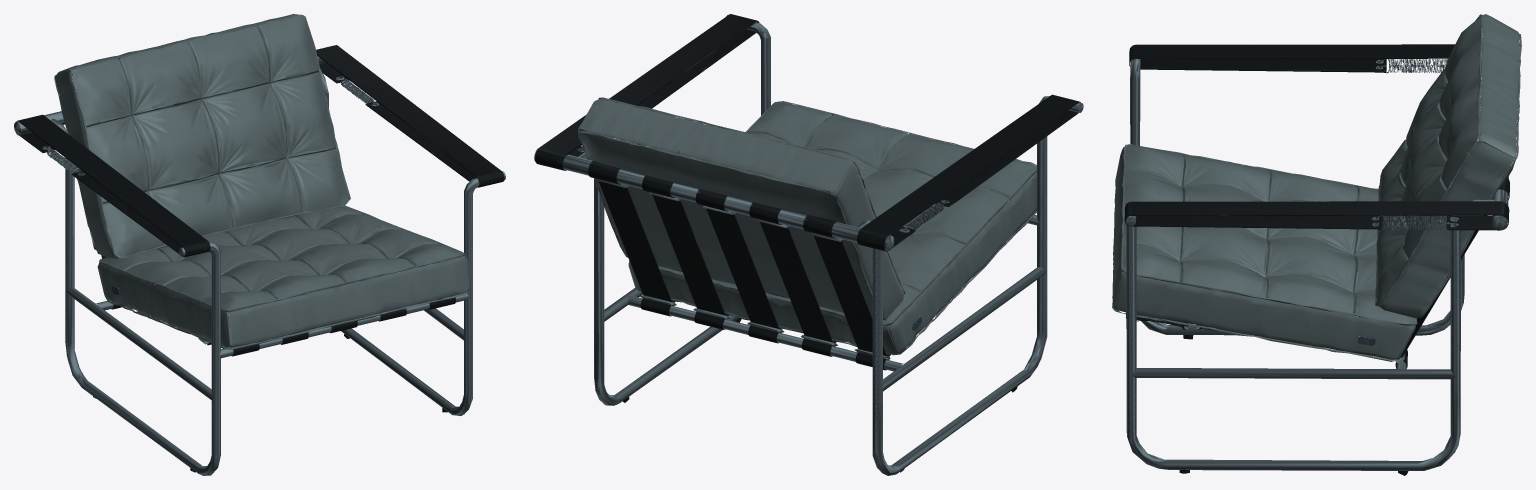
File: sofa_single_seat_sofa_f495c8b3-26ef-5fa2-be3f-3b4f73f31247.glb
The picture shows the model from 3 angles, left to right: view 1: azimuth 30°, elevation 25°; view 2: azimuth 150°, elevation 25°; view 3: azimuth 270°, elevation 25°; orthographic projection. The views are drawn at different scales.
Visible parts, largest first — view 1: raw_model.obj; view 2: raw_model.obj; view 3: raw_model.obj.
Boxes of the visible parts, x1,y1,x2,y2 form: raw_model.obj: (14, 14, 505, 475); raw_model.obj: (534, 14, 1083, 475); raw_model.obj: (1112, 14, 1521, 475).
Bounding box in the file's own units: 0.8079 × 0.7218 × 0.8002.
1 material, 1 textured.
